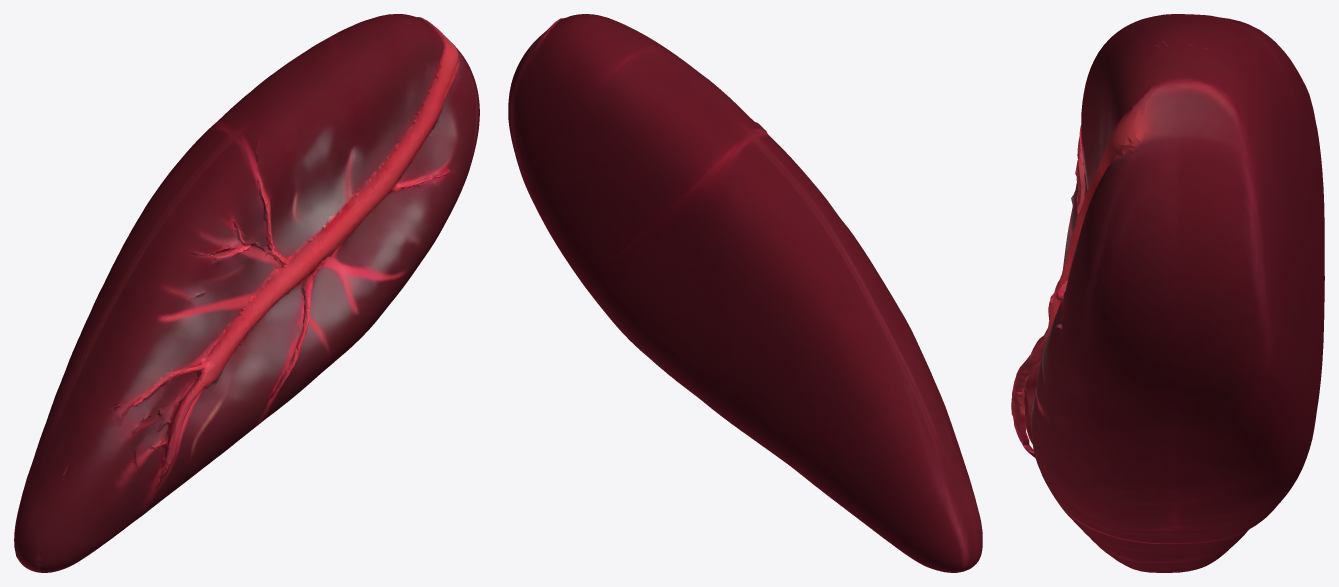
Rendered from dog_spleen.glb.
The picture shows the model from 3 angles, left to right: view 1: azimuth 30°, elevation 25°; view 2: azimuth 150°, elevation 25°; view 3: azimuth 270°, elevation 25°; orthographic projection. The views are drawn at different scales.
Parts seen in each view (by area): view 1: model; view 2: model; view 3: model.
Boxes of the visible parts, x1,y1,x2,y2 form: model: [14, 14, 479, 572]; model: [508, 14, 982, 572]; model: [1011, 14, 1324, 572].
Bounding box in the file's own units: 1.9 × 1.84 × 0.6221.
Materials: 1 (1 with a texture image).
